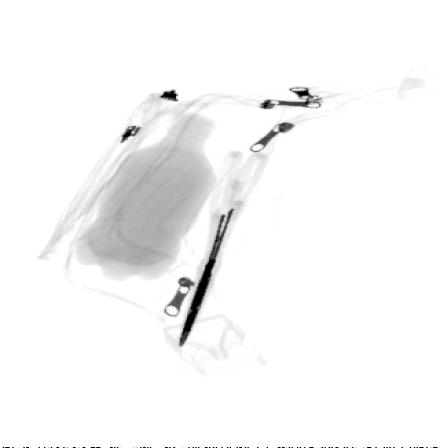Scissors: (178, 150, 268, 347)
